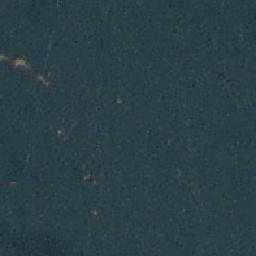debris: (1, 52, 28, 69), (33, 73, 55, 84)
